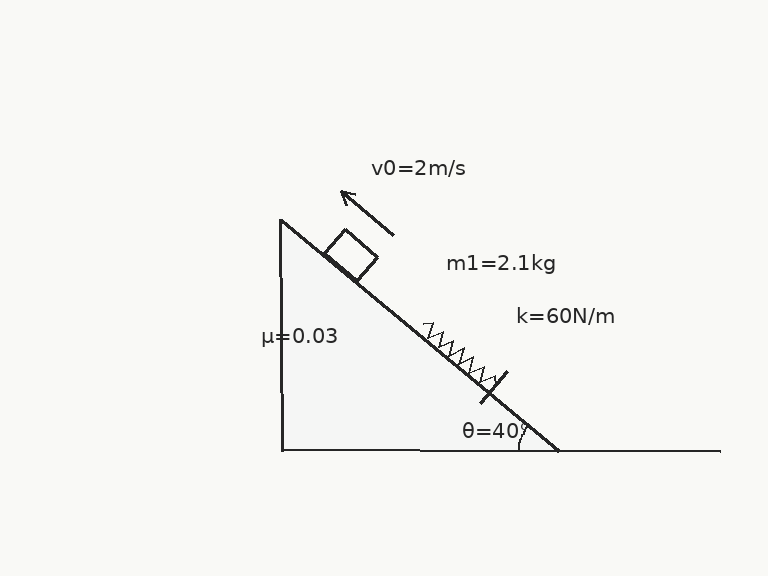block: (323, 228, 378, 282)
ramp: (279, 215, 561, 452)
spring: (421, 321, 497, 387)
